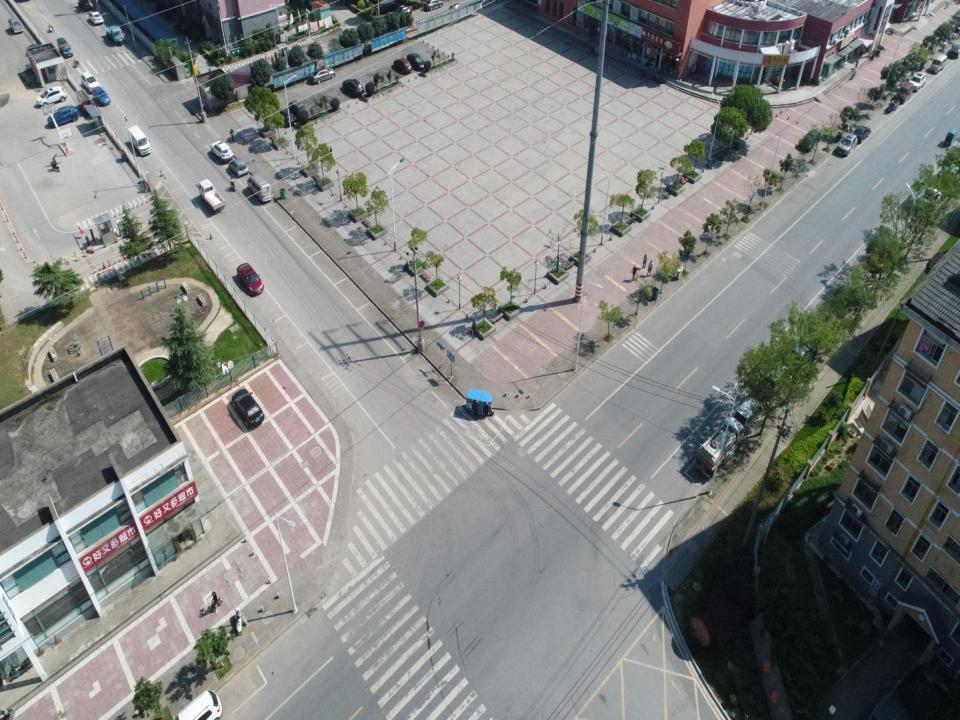car: (156, 690, 226, 720), (231, 388, 265, 430), (236, 262, 265, 297), (916, 184, 943, 216), (36, 85, 67, 109), (789, 338, 817, 364), (872, 240, 894, 268), (836, 132, 858, 157), (210, 140, 234, 162), (798, 128, 820, 152), (80, 70, 100, 94), (309, 67, 336, 84), (228, 157, 249, 178), (342, 78, 364, 97), (406, 53, 428, 71), (92, 86, 111, 106), (908, 71, 926, 92), (940, 160, 959, 179), (278, 107, 296, 126), (851, 125, 870, 143), (391, 4, 413, 19), (393, 58, 413, 74), (449, 2, 468, 17), (88, 9, 104, 25), (948, 43, 960, 59), (426, 0, 444, 10)
truck: (693, 416, 744, 479), (197, 178, 226, 214)
van: (757, 364, 790, 400), (732, 396, 760, 432), (247, 171, 274, 203), (46, 104, 80, 128), (128, 124, 153, 156), (895, 80, 914, 105), (287, 99, 306, 120), (56, 37, 74, 59), (930, 53, 948, 75), (8, 16, 24, 33)
